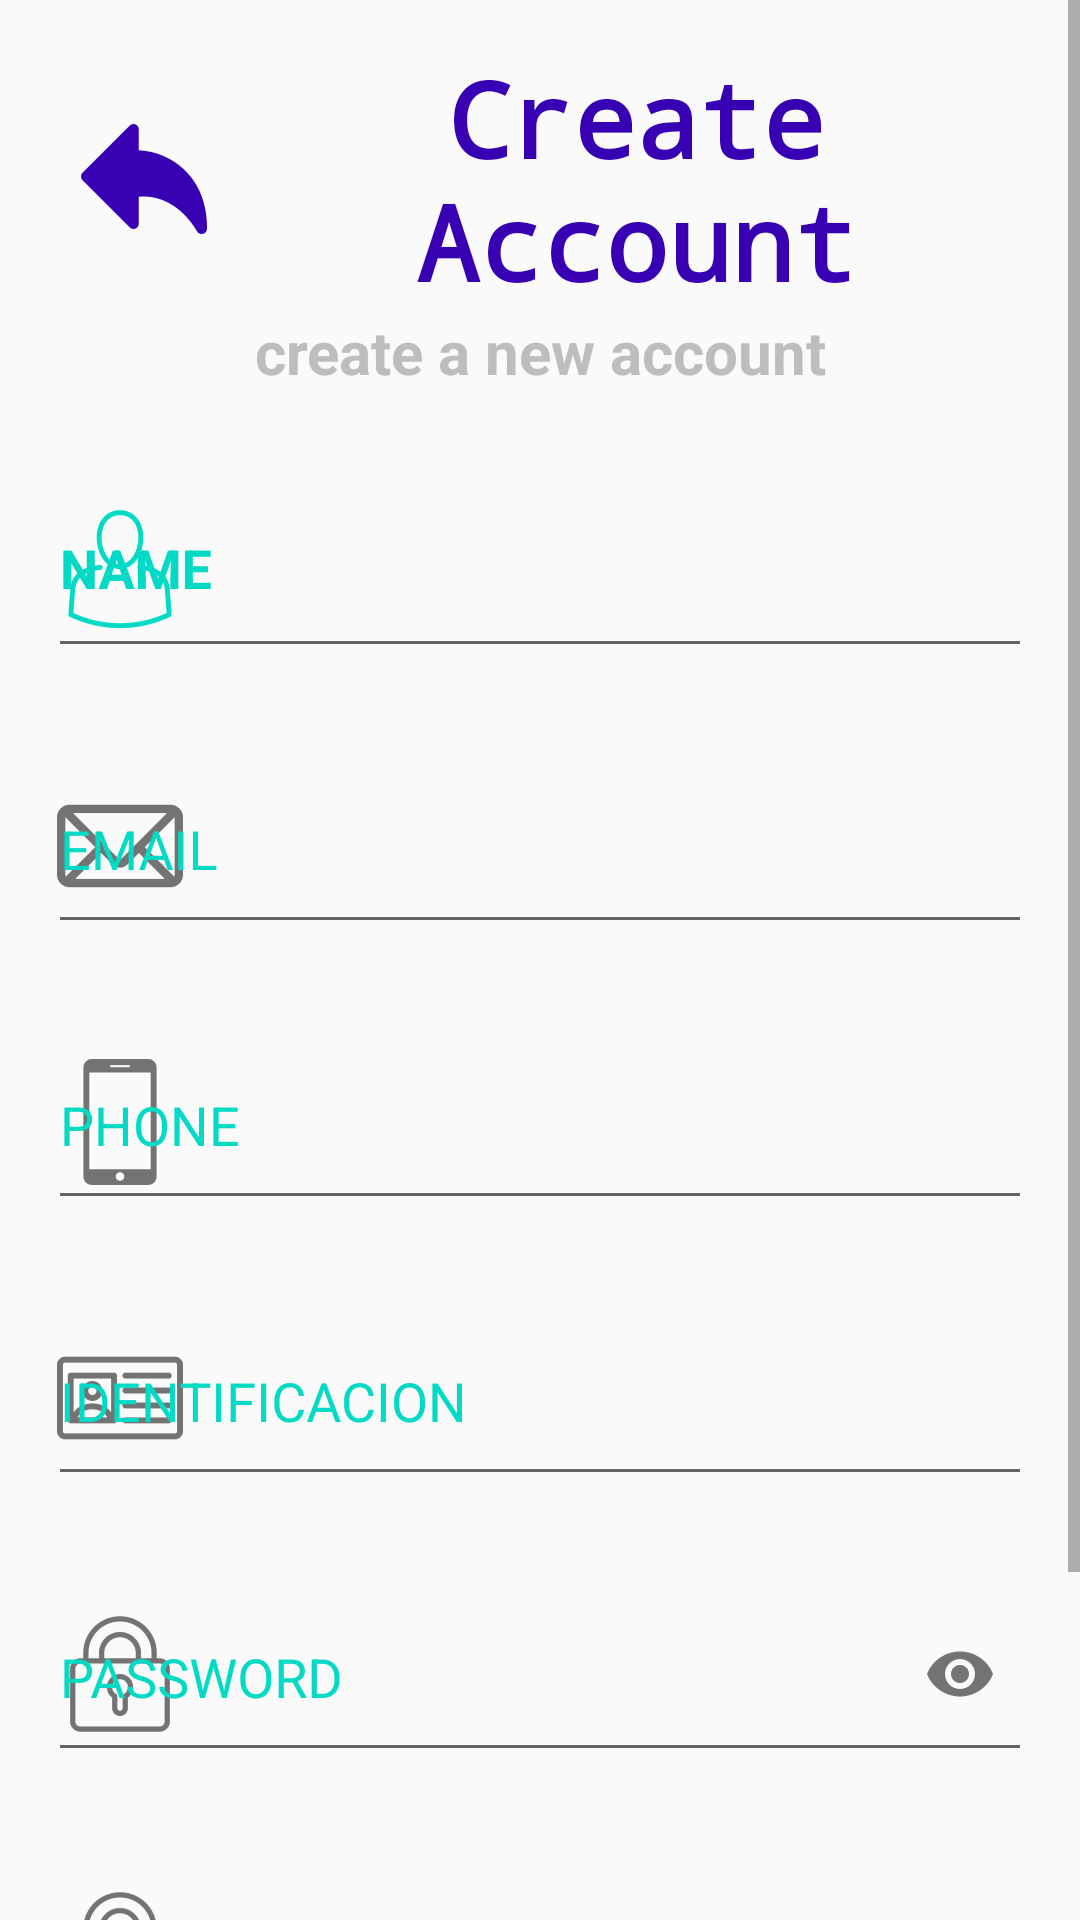

Where icons sit on this 1080 x 1920 app screen, as (left=x1, top=y1, right=x2, bottom=y2):
return: (left=81, top=124, right=207, bottom=234)
